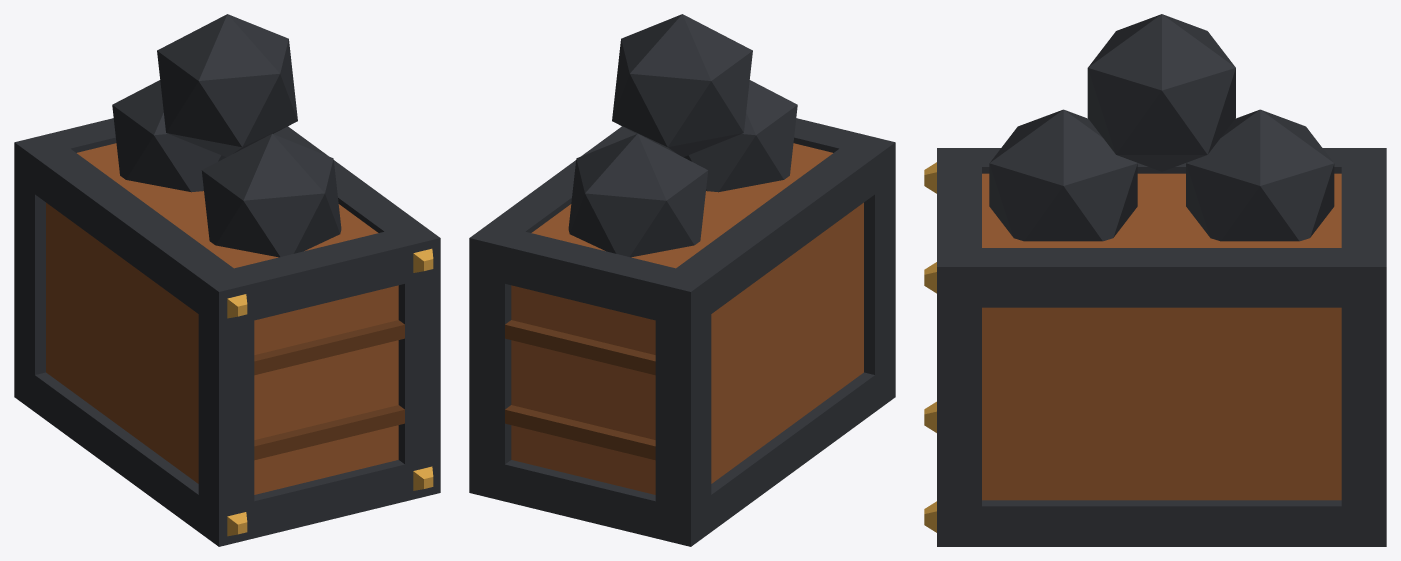
File: MortarKit4.obj
3 views of the same model, side by side, from view 1: azimuth 30°, elevation 25°; view 2: azimuth 150°, elevation 25°; view 3: azimuth 270°, elevation 25° (orthographic). The views are drawn at different scales.
Parts seen in each view (by area): view 1: MortarKit4; view 2: MortarKit4; view 3: MortarKit4.
Part boxes in pixels (x1=…): MortarKit4: x1=14, y1=14, x2=440, y2=546; MortarKit4: x1=469, y1=14, x2=895, y2=546; MortarKit4: x1=924, y1=14, x2=1386, y2=546.
Bounding box in the file's own units: 0.2 × 0.372 × 0.3291.
